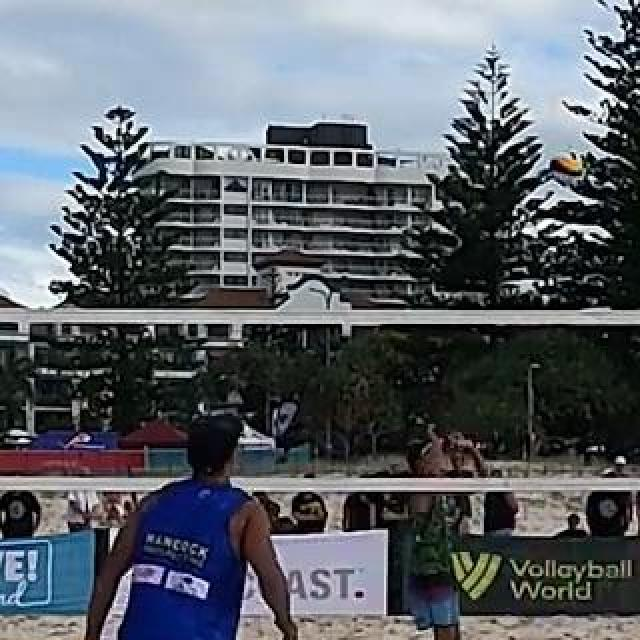volleyball: (552, 153, 580, 179)
